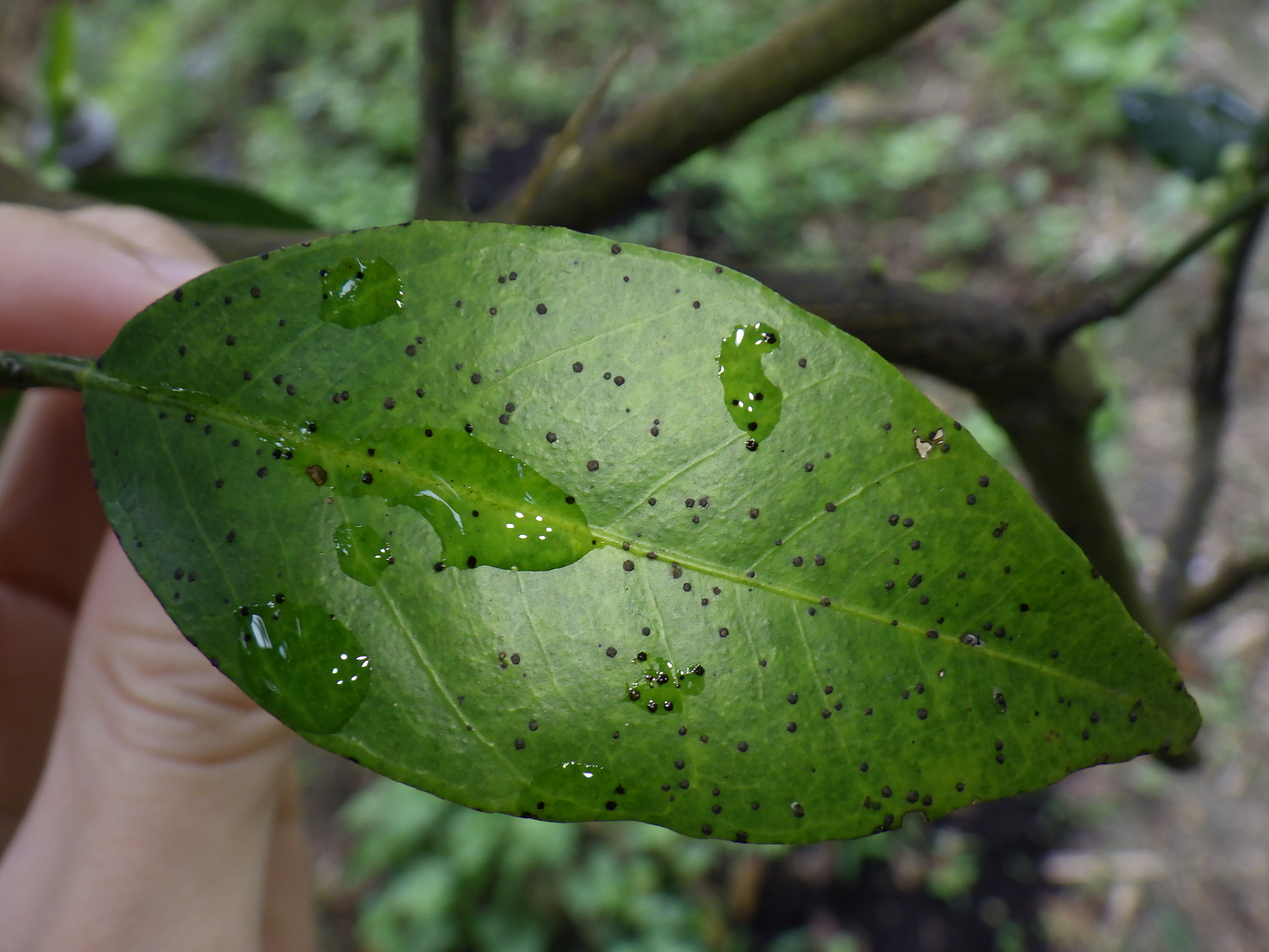Black_Spot: (0, 221, 1197, 842)
